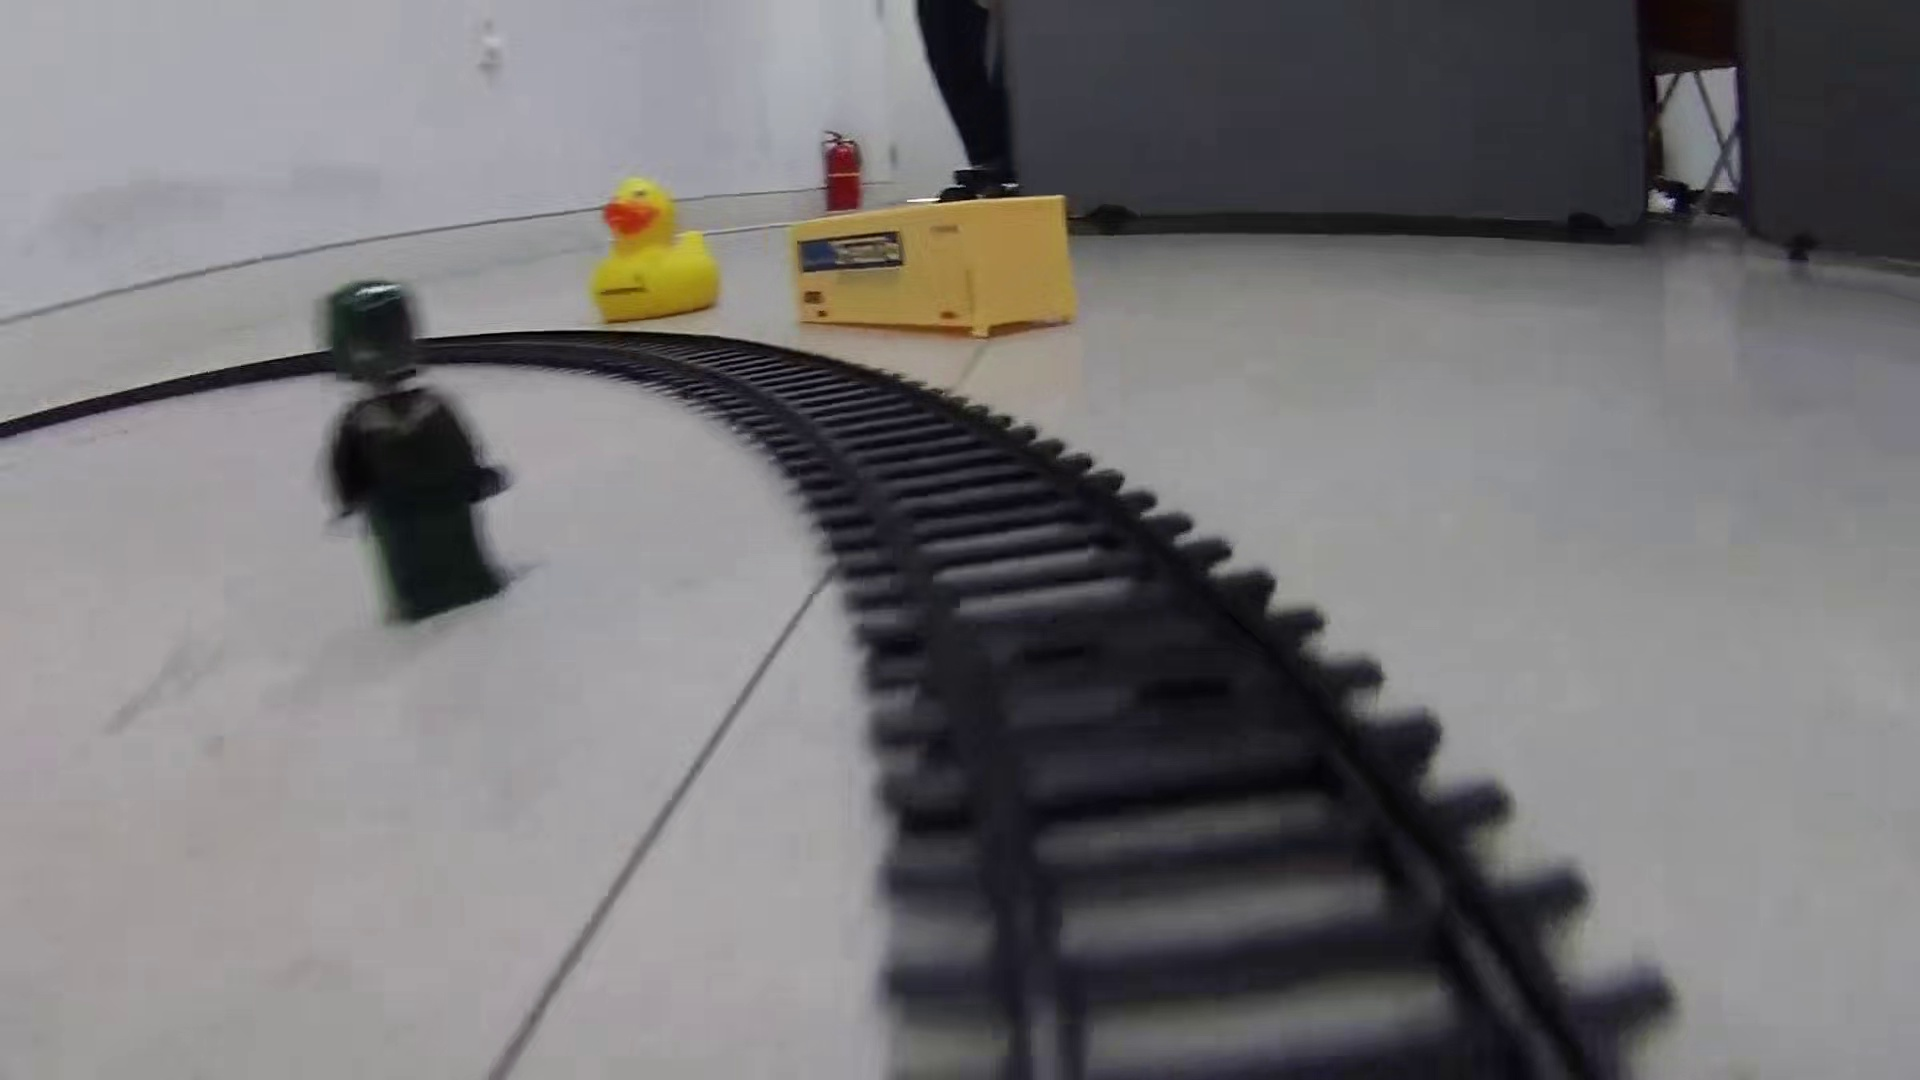people: (303, 277, 522, 627)
